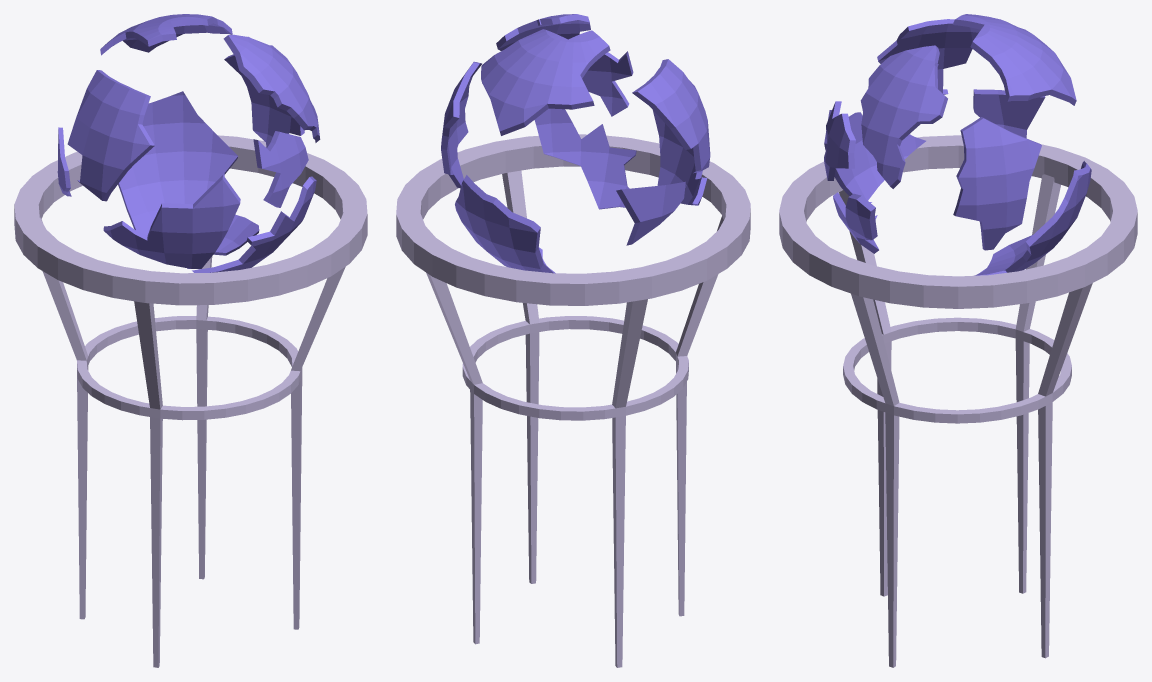
Rendered from Globe.fbx.
The picture shows the model from 3 angles, left to right: view 1: azimuth 30°, elevation 25°; view 2: azimuth 150°, elevation 25°; view 3: azimuth 270°, elevation 25°; orthographic projection.
Parts seen in each view (by area): view 1: Cylinder, Sphere; view 2: Cylinder, Sphere; view 3: Cylinder, Sphere.
Part boxes in pixels (<box>): Cylinder: <box>14,135,367,667</box>; Sphere: <box>57,14,320,272</box>; Cylinder: <box>396,134,750,667</box>; Sphere: <box>441,14,710,273</box>; Cylinder: <box>779,135,1137,667</box>; Sphere: <box>824,14,1091,275</box>.
Bounding box in the file's own units: 313 × 581 × 313.
